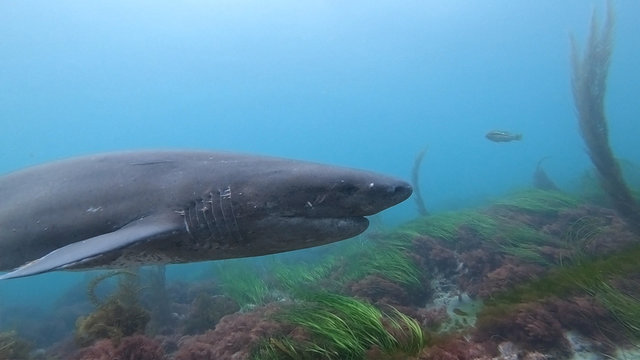Sevengill Shark: (0, 145, 434, 318)
